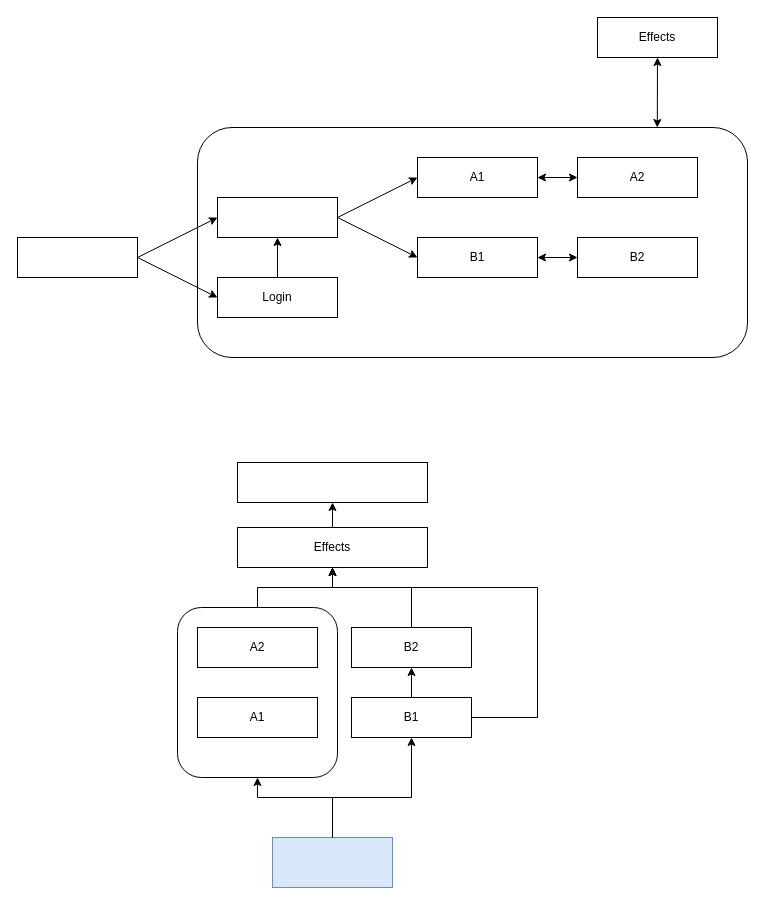
The diagram is 765 pixels wide and 905 high, and some of its shapes have lost their labels. The centre of each missing label's shape, as x and y in pixels:
"Composable Architecture" goes at [332,482].
"Modular-TCA" goes at [332,862].
"Root" goes at [77,257].
"TabBar" goes at [277,217].
